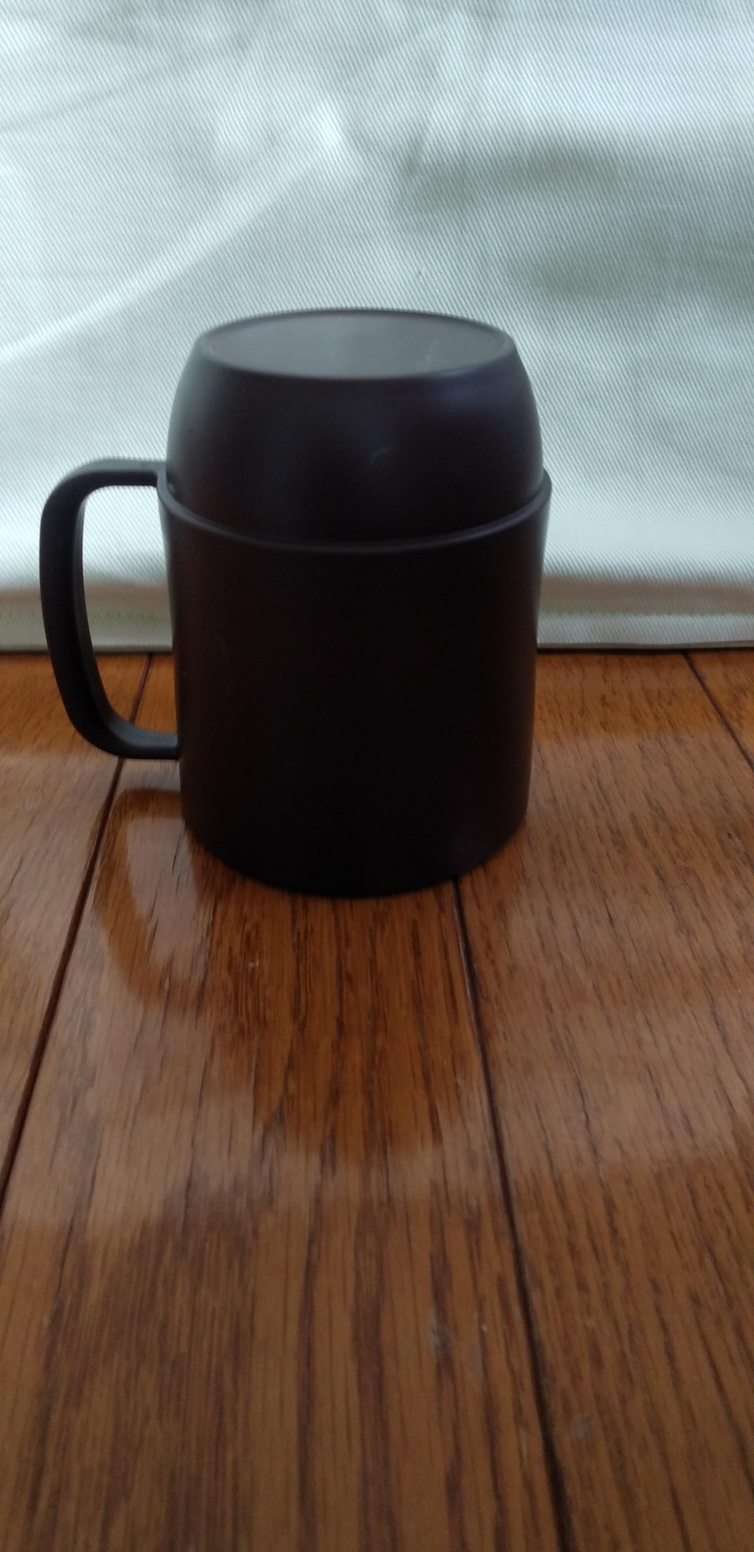mug-real100-3d100: (40, 309, 551, 897)
